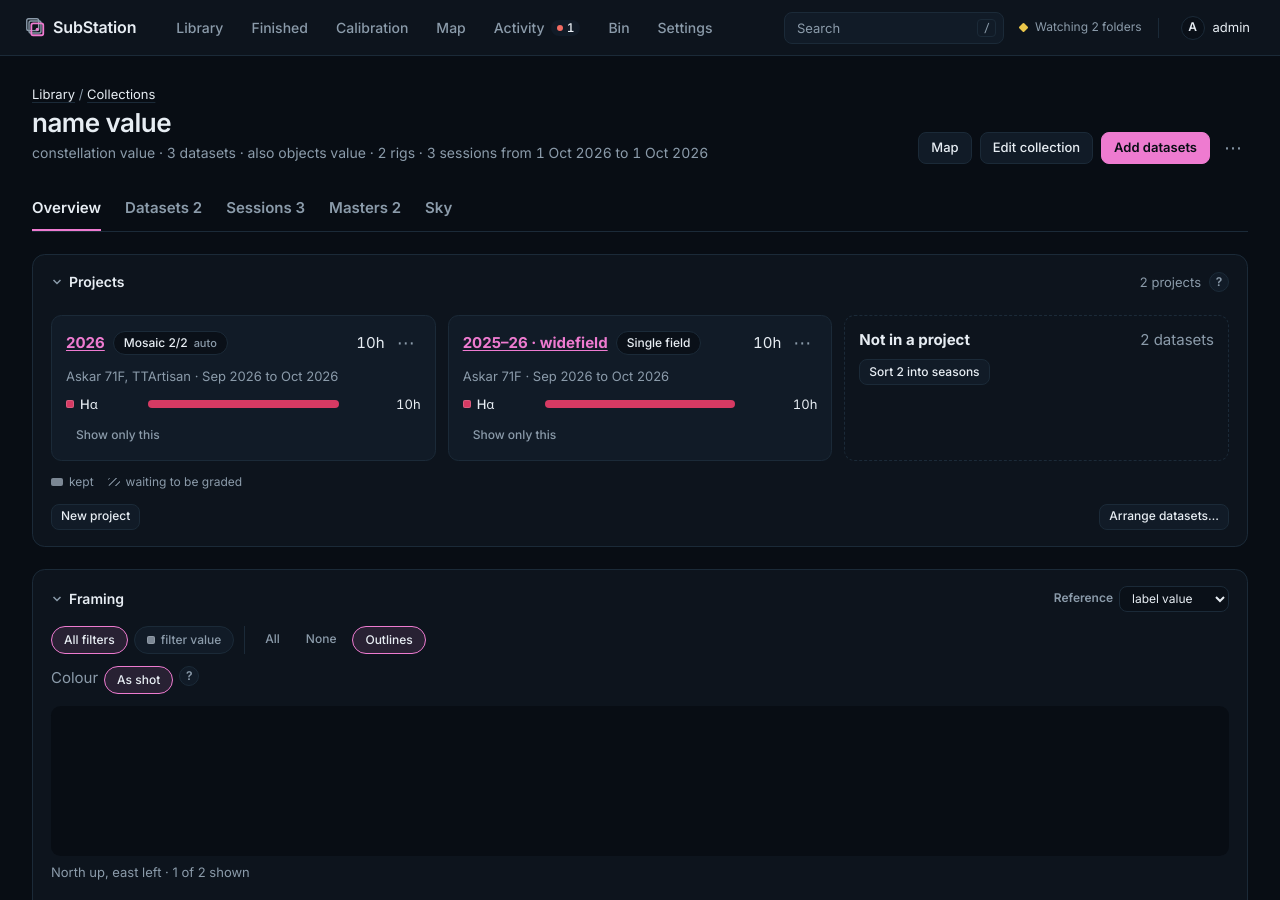
Test: Projects panel (amendment 2026-10-22) › splits by rig
Expected: the link "2025–26 · widefield" is shown, [463,333,608,352]
Expected: the button named "More for 2025–26 · widefield" is shown, [787,328,817,358]
Click the button "⋯" in the row of "auto" at (406, 343), box [391,328,421,358]
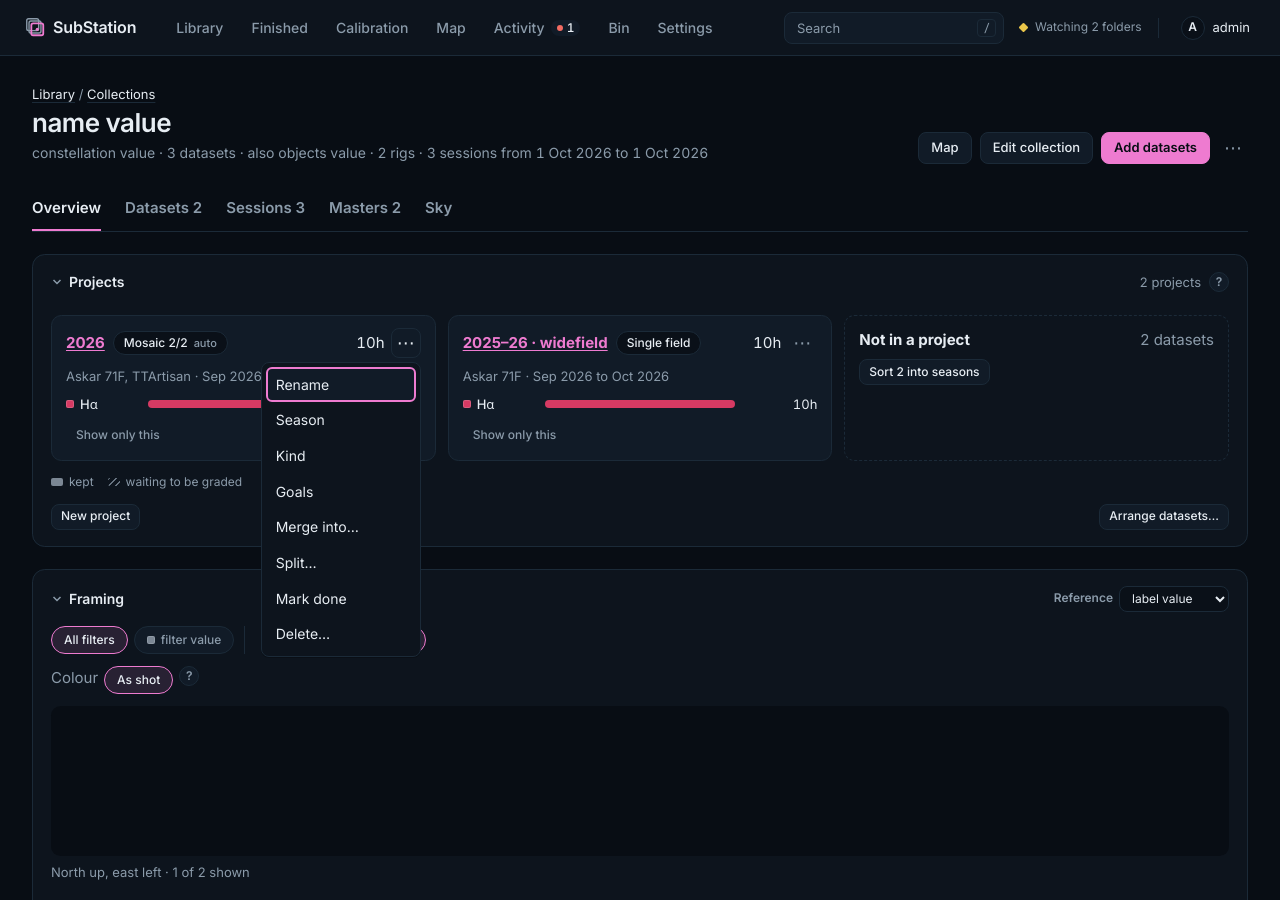
Click the menu item "Split…" at (341, 563), box [266,545,416,581]
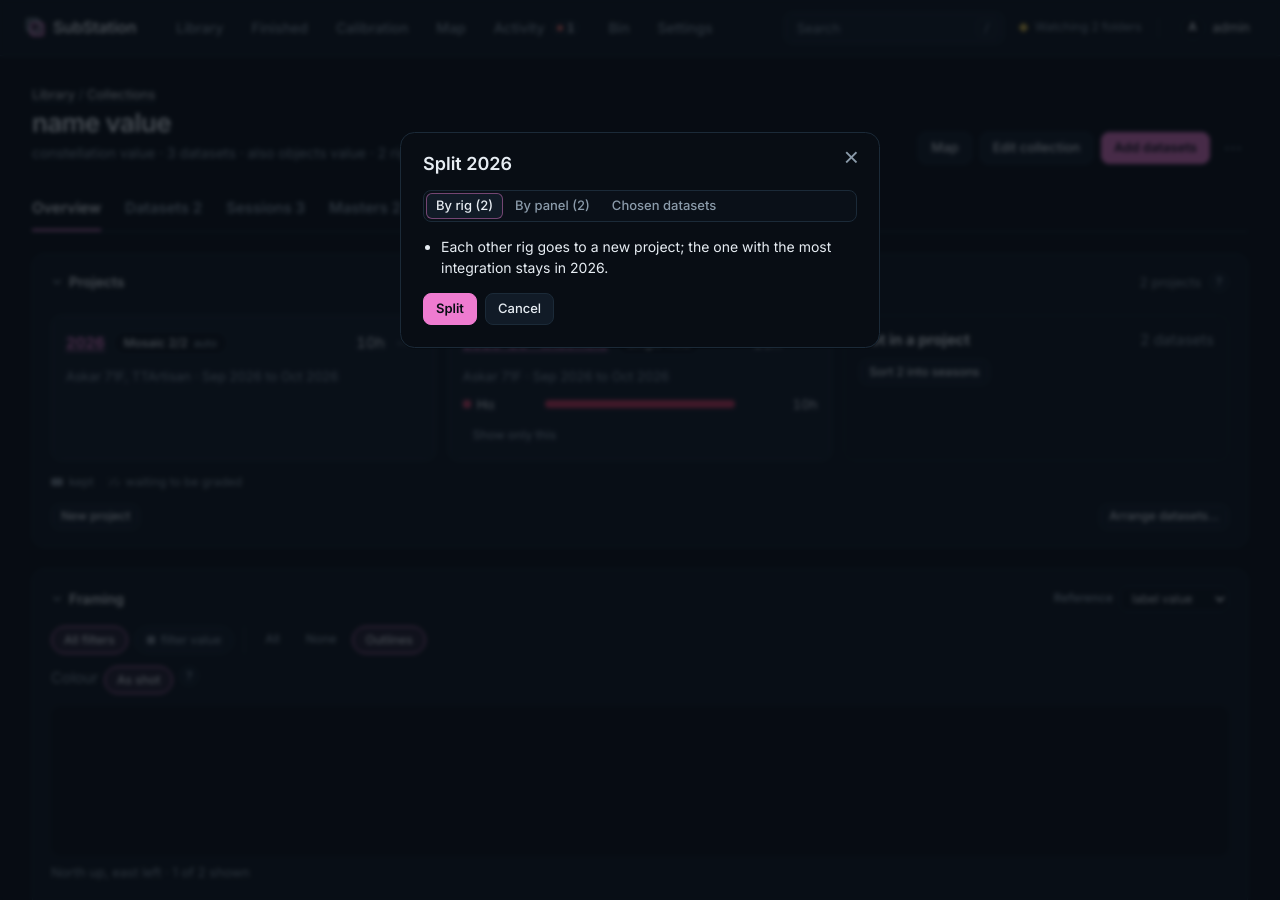
Click the button "Split" at (450, 309), box [423,293,477,325]
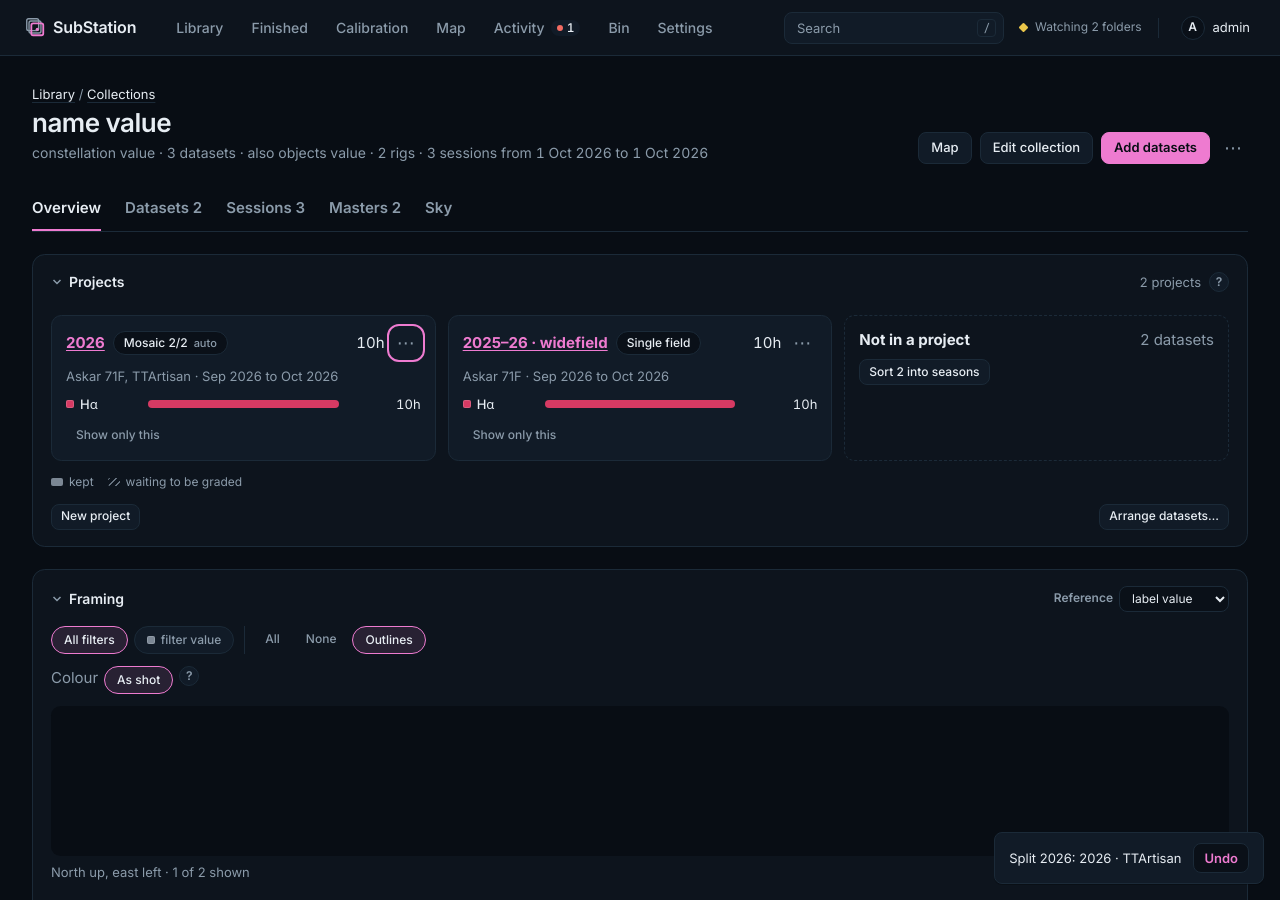
Expected: the text "Split 2026: 2026 · TTArtisan" is shown, [1009,848,1181,868]
